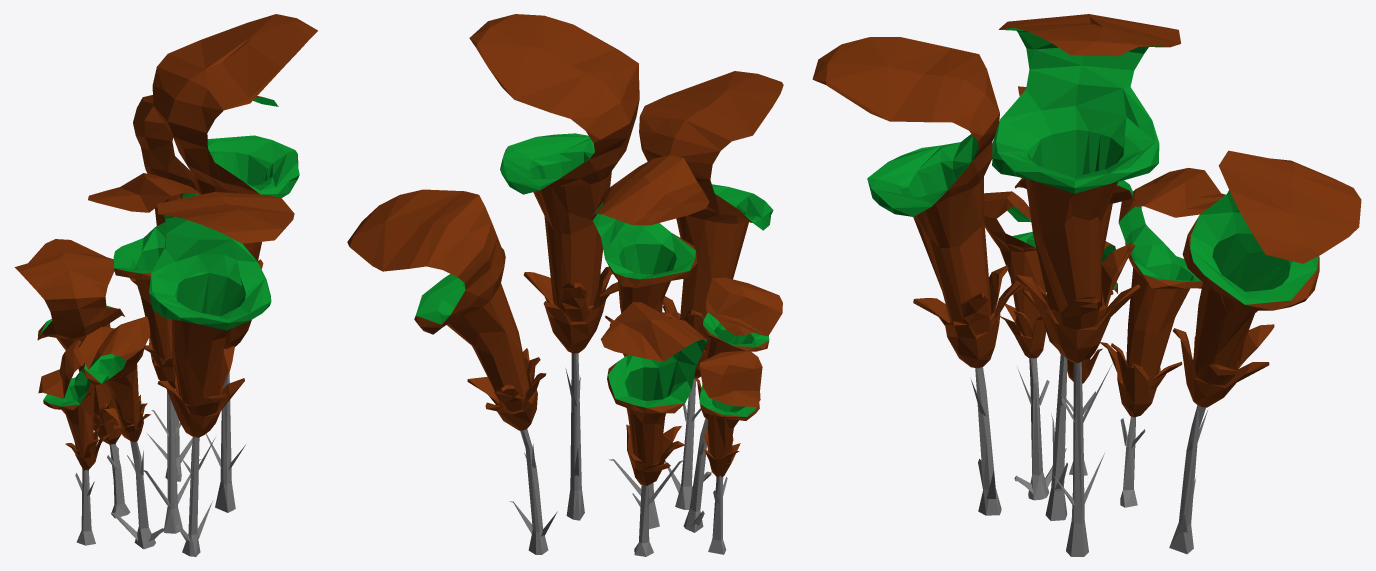
The model's file is ShrubGlove01.fbx.
3 renders of one model, left to right at view 1: azimuth 30°, elevation 25°; view 2: azimuth 150°, elevation 25°; view 3: azimuth 270°, elevation 25°, orthographic. The views are drawn at different scales.
Parts seen in each view (by area): view 1: ShrubGlove01_LOD0; view 2: ShrubGlove01_LOD0; view 3: ShrubGlove01_LOD0.
Part boxes in pixels (x1,y1,x2,y2): ShrubGlove01_LOD0: (14, 14, 317, 556); ShrubGlove01_LOD0: (347, 14, 783, 556); ShrubGlove01_LOD0: (812, 14, 1361, 556).
Size of what is drawn, in the model's own units: 123 by 175 by 156.
